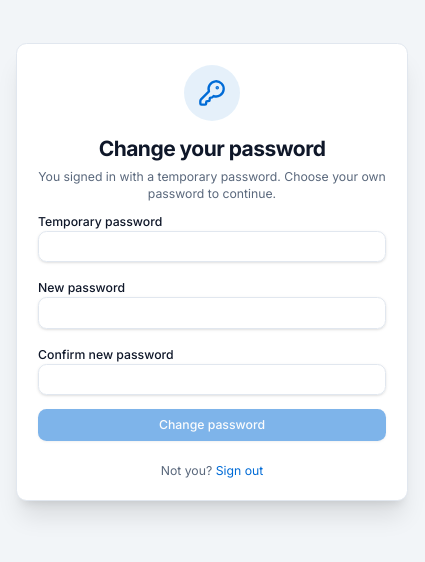
Test: ChangePasswordPage › shows validation errors from the server and stays on the page
Type "Temp-123!abc" into the password field labelled "Temporary password" at (212, 247), box [38,231,386,262]
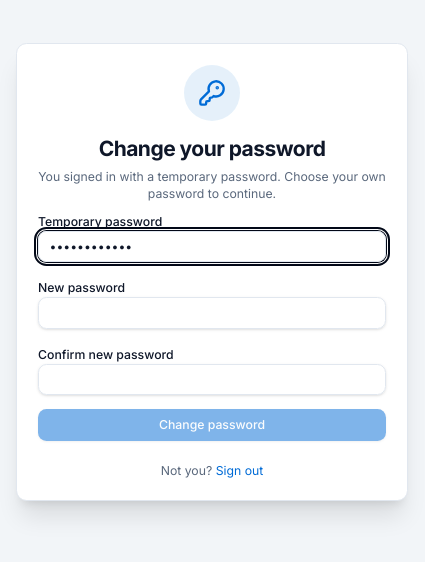
Type "password123" into the password field labelled "New password" at (212, 313), box [38,297,386,329]
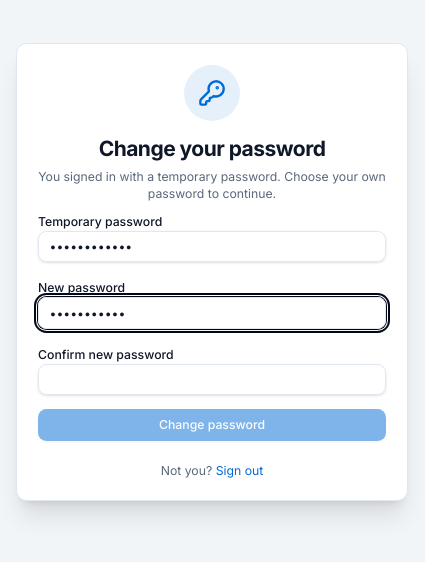
Type "password123" into the password field labelled "Confirm new password" at (212, 380), box [38,364,386,395]
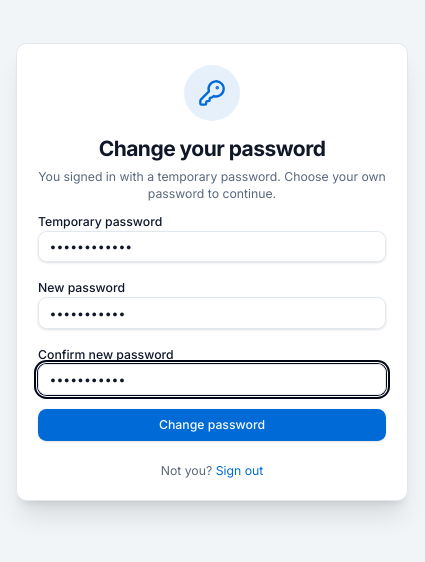
Click the button "Change password" at (212, 425), box [38,409,386,441]
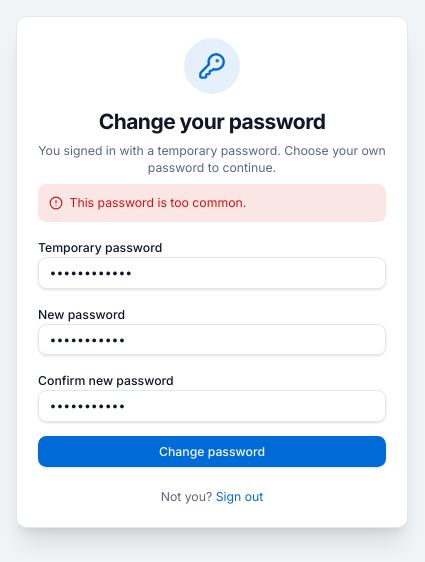
Result: the message reads "This password is too common." at [70,195,246,210]
